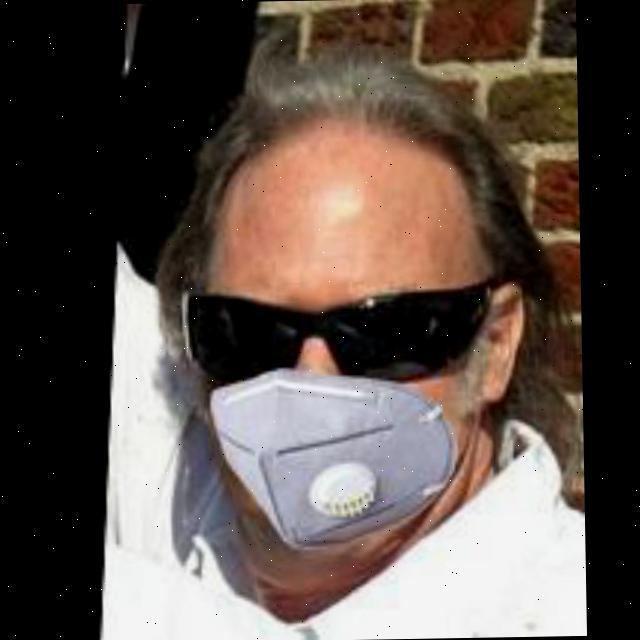suspicion: (152, 58, 564, 572)
